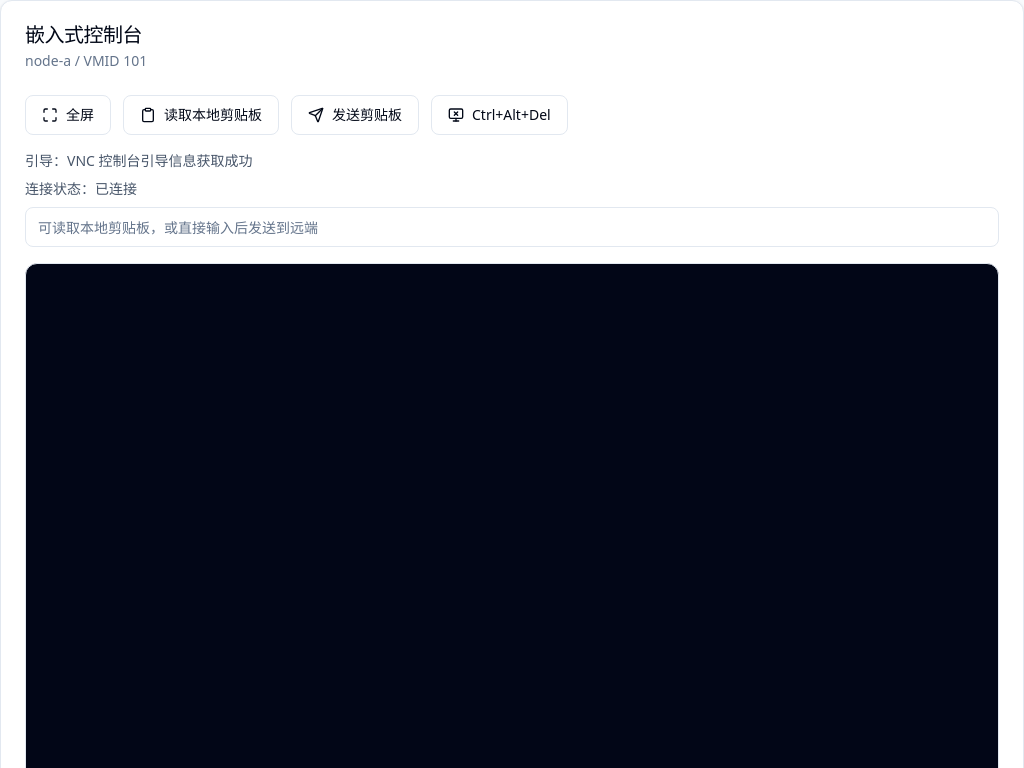
Test: VNCConsole › reads local clipboard and sends clipboard plus ctrl alt del when connected
Expected: the text "连接状态：已连接" is shown, left=25, top=179, right=137, bottom=198
Click the button "读取本地剪贴板": (201, 115) left=123, top=95, right=279, bottom=135
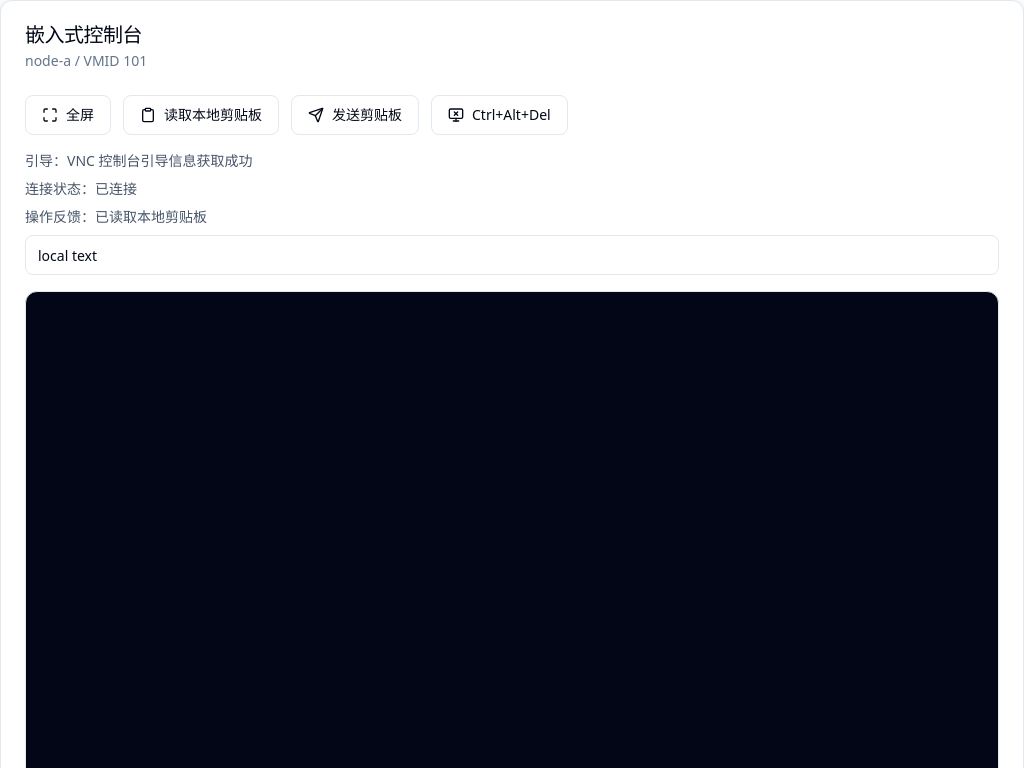
Now the field showing "local text" is shown, box left=25, top=235, right=999, bottom=275
Now the text "操作反馈：已读取本地剪贴板" is shown, box left=25, top=207, right=207, bottom=226
Click the button "发送剪贴板": (355, 115) left=291, top=95, right=419, bottom=135
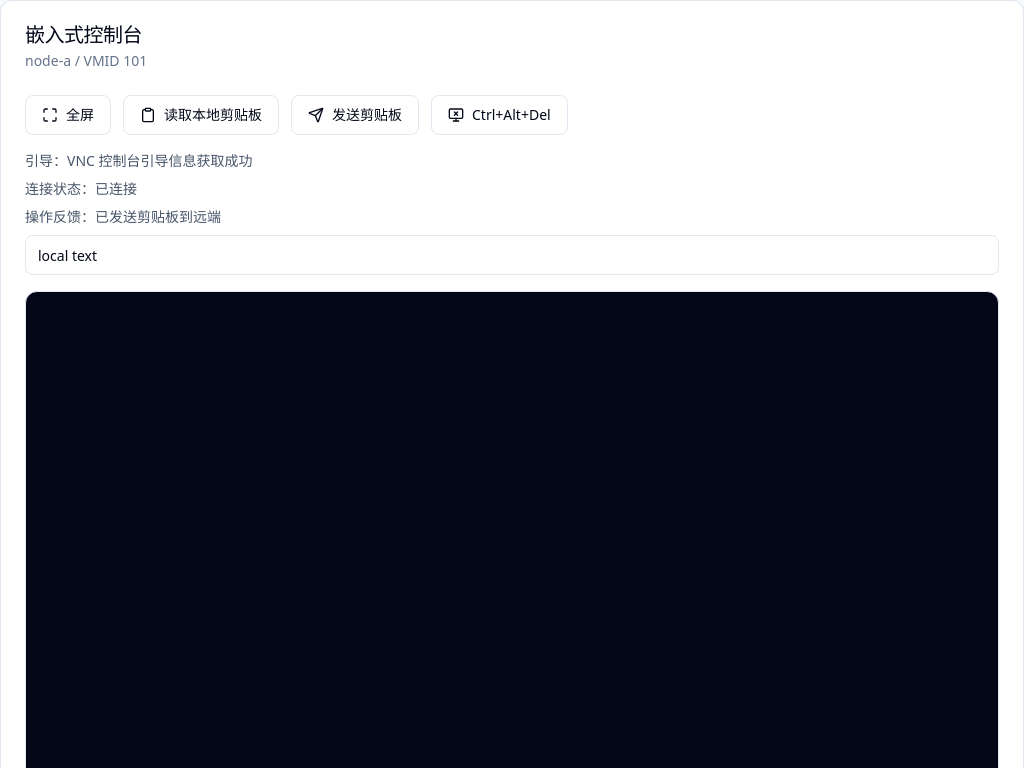
Now the text "操作反馈：已发送剪贴板到远端" is shown, box left=25, top=207, right=221, bottom=226
Click the button "Ctrl+Alt+Del": (499, 115) left=431, top=95, right=568, bottom=135
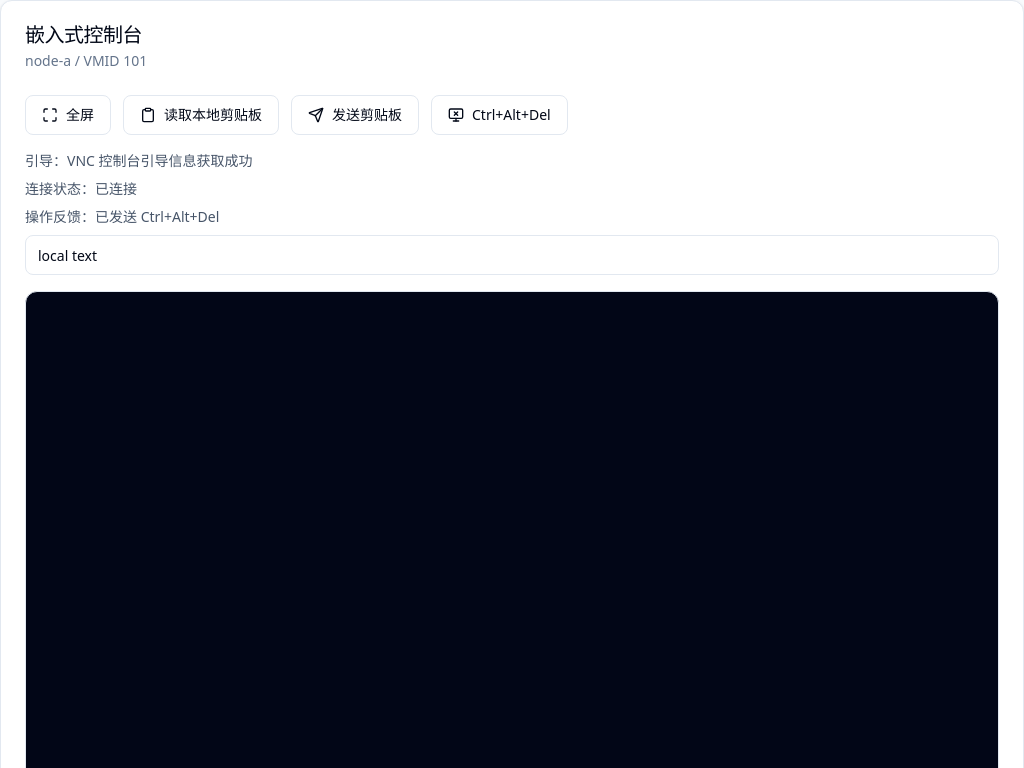
Now the text "操作反馈：已发送 Ctrl+Alt+Del" is shown, box left=25, top=207, right=219, bottom=226
